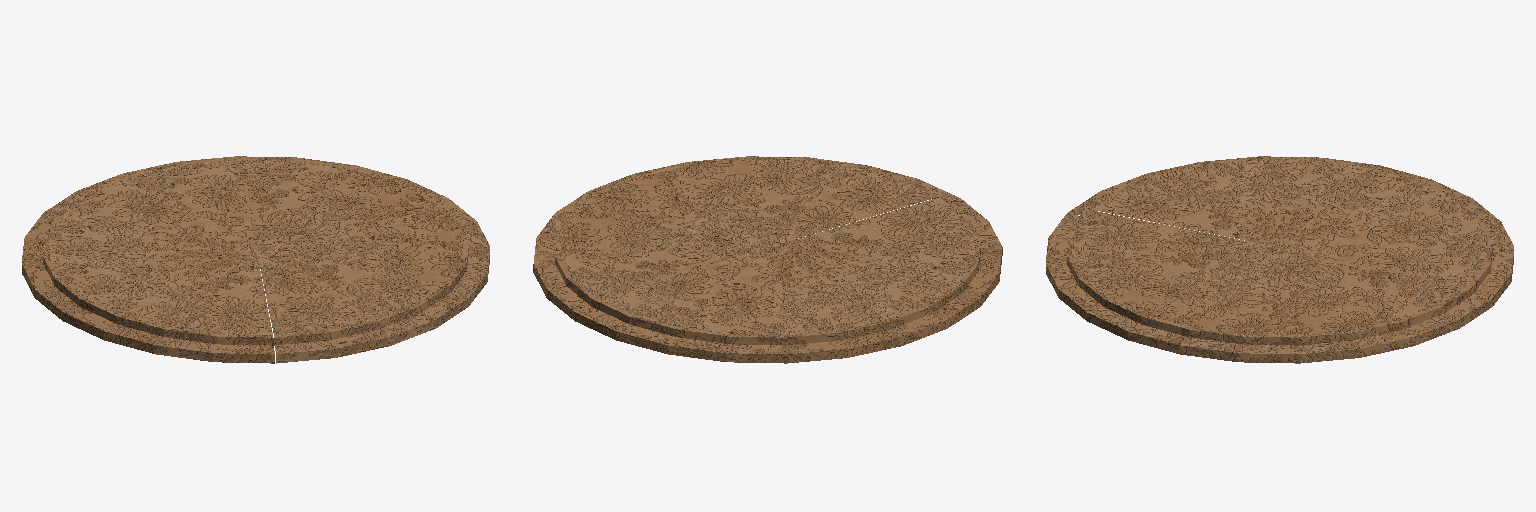
3 views of the same model, side by side, from view 1: azimuth 30°, elevation 25°; view 2: azimuth 150°, elevation 25°; view 3: azimuth 270°, elevation 25° (orthographic).
Visible parts, largest first — view 1: Group_3_005.000, Group_3_001.000, Group_3_012.000, Group_3_008.000, Group_3_011.000, Group_3_007.000, Group_3_009.000, Group_3_002.000, Group_3_010.000, Group_3_003.000, Group_3_004.000, Group_3_006.000; view 2: Group_3_010.000, Group_3_009.000, Group_3_004.000, Group_3_011.000, Group_3_006.000, Group_3_012.000, Group_3_003.000, Group_3_005.000, Group_3_002.000, Group_3_001.000, Group_3_007.000, Group_3_008.000; view 3: Group_3_002.000, Group_3_003.000, Group_3_007.000, Group_3_006.000, Group_3_008.000, Group_3_004.000, Group_3_001.000, Group_3_010.000, Group_3_005.000, Group_3_009.000, Group_3_012.000, Group_3_011.000.
Boxes of the visible parts, x1=… form: Group_3_005.000: x1=155, y1=248, x2=274, y2=363; Group_3_001.000: x1=256, y1=248, x2=389, y2=363; Group_3_012.000: x1=63, y1=248, x2=254, y2=353; Group_3_008.000: x1=258, y1=248, x2=468, y2=345; Group_3_011.000: x1=22, y1=248, x2=252, y2=320; Group_3_007.000: x1=256, y1=240, x2=489, y2=305; Group_3_009.000: x1=22, y1=209, x2=255, y2=263; Group_3_002.000: x1=259, y1=196, x2=489, y2=247; Group_3_010.000: x1=44, y1=173, x2=253, y2=246; Group_3_003.000: x1=257, y1=165, x2=448, y2=246; Group_3_004.000: x1=123, y1=156, x2=255, y2=246; Group_3_006.000: x1=237, y1=156, x2=355, y2=246; Group_3_010.000: x1=668, y1=248, x2=787, y2=363; Group_3_009.000: x1=768, y1=248, x2=901, y2=362; Group_3_004.000: x1=575, y1=248, x2=766, y2=353; Group_3_011.000: x1=770, y1=248, x2=980, y2=345; Group_3_006.000: x1=533, y1=248, x2=764, y2=320; Group_3_012.000: x1=768, y1=240, x2=1002, y2=305; Group_3_003.000: x1=534, y1=209, x2=767, y2=263; Group_3_005.000: x1=771, y1=196, x2=1001, y2=247; Group_3_002.000: x1=556, y1=173, x2=765, y2=246; Group_3_001.000: x1=769, y1=166, x2=960, y2=246; Group_3_007.000: x1=635, y1=156, x2=767, y2=246; Group_3_008.000: x1=748, y1=156, x2=867, y2=246; Group_3_002.000: x1=1180, y1=248, x2=1299, y2=363; Group_3_003.000: x1=1280, y1=248, x2=1413, y2=363; Group_3_007.000: x1=1087, y1=248, x2=1278, y2=353; Group_3_006.000: x1=1282, y1=248, x2=1492, y2=345; Group_3_008.000: x1=1046, y1=248, x2=1276, y2=320; Group_3_004.000: x1=1281, y1=240, x2=1513, y2=305; Group_3_001.000: x1=1046, y1=209, x2=1279, y2=263; Group_3_010.000: x1=1280, y1=196, x2=1513, y2=247; Group_3_005.000: x1=1068, y1=173, x2=1277, y2=246; Group_3_009.000: x1=1281, y1=166, x2=1472, y2=246; Group_3_012.000: x1=1147, y1=156, x2=1279, y2=246; Group_3_011.000: x1=1261, y1=156, x2=1380, y2=246.
Bounding box in the file's own units: 62.82 × 2.51 × 62.82.
Materials: 4 (1 with a texture image).